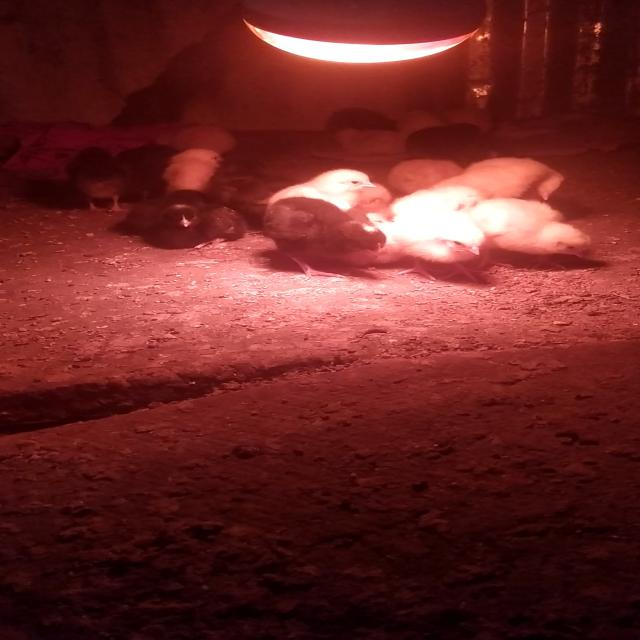chick: (258, 198, 386, 277), (459, 198, 590, 271), (382, 210, 490, 284), (262, 169, 376, 238), (387, 183, 485, 253), (430, 162, 542, 206), (150, 202, 248, 252), (465, 156, 566, 204), (64, 144, 133, 212), (124, 189, 215, 238), (115, 143, 182, 201), (386, 156, 467, 200), (163, 149, 226, 194), (407, 123, 482, 159), (335, 126, 406, 163), (394, 108, 448, 146), (438, 106, 494, 141)
